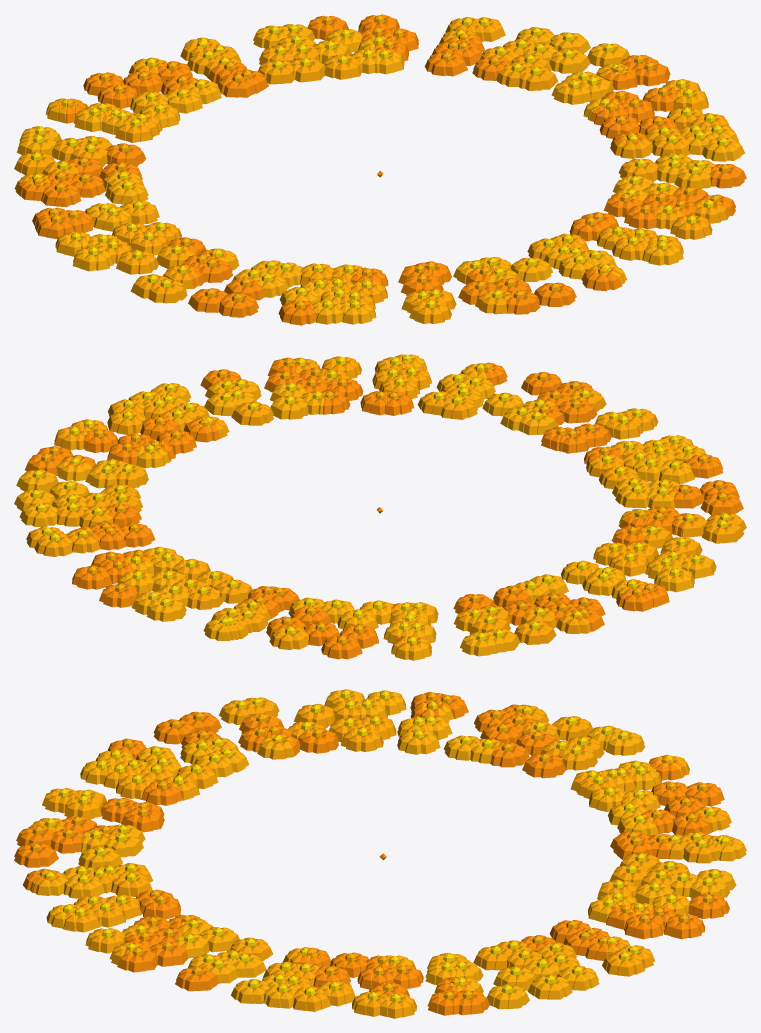
The model's file is cempasuchil-floor-200.glb.
The picture shows the model from 3 angles, top to bottom: view 1: azimuth 30°, elevation 25°; view 2: azimuth 150°, elevation 25°; view 3: azimuth 270°, elevation 25°; orthographic projection. The views are drawn at different scales.
Visible parts, largest first — view 1: flower-111-petals, flower-108-petals, flower-73-petals, flower-128-petals, flower-120-petals, flower-80-petals, flower-88-petals, flower-95-petals, flower-100-petals, flower-91-petals, flower-98-petals, flower-101-petals (+58 smaller); view 2: flower-117-petals, flower-124-petals, flower-144-petals, flower-132-petals, flower-104-petals, flower-72-petals, flower-136-petals, flower-52-petals, flower-164-petals, flower-32-petals, flower-184-petals, flower-65-petals (+48 smaller); view 3: flower-88-petals, flower-116-petals, flower-133-petals, flower-76-petals, flower-200-petals, flower-69-petals, flower-52-petals, flower-168-petals, flower-136-petals, flower-121-petals, flower-115-petals, flower-92-petals (+54 smaller).
Part boxes in pixels (bbox=[...]): flower-111-petals: bbox=[116, 249, 158, 274]; flower-108-petals: bbox=[670, 214, 712, 239]; flower-73-petals: bbox=[424, 51, 467, 76]; flower-128-petals: bbox=[702, 137, 745, 161]; flower-120-petals: bbox=[409, 299, 451, 323]; flower-80-petals: bbox=[72, 246, 113, 271]; flower-88-petals: bbox=[534, 282, 576, 306]; flower-95-petals: bbox=[549, 49, 590, 73]; flower-100-petals: bbox=[219, 293, 259, 317]; flower-91-petals: bbox=[41, 182, 81, 207]; flower-98-petals: bbox=[510, 257, 552, 281]; flower-101-petals: bbox=[105, 180, 148, 204]; flower-117-petals: bbox=[231, 401, 273, 425]; flower-124-petals: bbox=[321, 635, 362, 659]; flower-144-petals: bbox=[514, 621, 556, 644]; flower-132-petals: bbox=[701, 519, 743, 543]; flower-104-petals: bbox=[146, 597, 186, 621]; flower-72-petals: bbox=[269, 626, 309, 649]; flower-136-petals: bbox=[72, 565, 112, 589]; flower-52-petals: bbox=[99, 583, 139, 607]; flower-164-petals: bbox=[654, 567, 694, 592]; flower-32-petals: bbox=[19, 503, 57, 526]; flower-184-petals: bbox=[700, 492, 743, 515]; flower-65-petals: bbox=[270, 395, 308, 419]; flower-88-petals: bbox=[14, 842, 58, 867]; flower-116-petals: bbox=[527, 975, 572, 999]; flower-133-petals: bbox=[522, 753, 566, 778]; flower-76-petals: bbox=[175, 966, 218, 991]; flower-200-petals: bbox=[487, 984, 529, 1009]; flower-69-petals: bbox=[341, 726, 383, 752]; flower-52-petals: bbox=[688, 893, 729, 918]; flower-168-petals: bbox=[602, 951, 645, 976]; flower-136-petals: bbox=[663, 914, 705, 939]; flower-121-petals: bbox=[298, 728, 338, 753]; flower-115-petals: bbox=[624, 914, 664, 939]; flower-92-petals: bbox=[605, 730, 644, 755].
Size of the model in its own units: 8.82 by 0.24 by 8.45.
